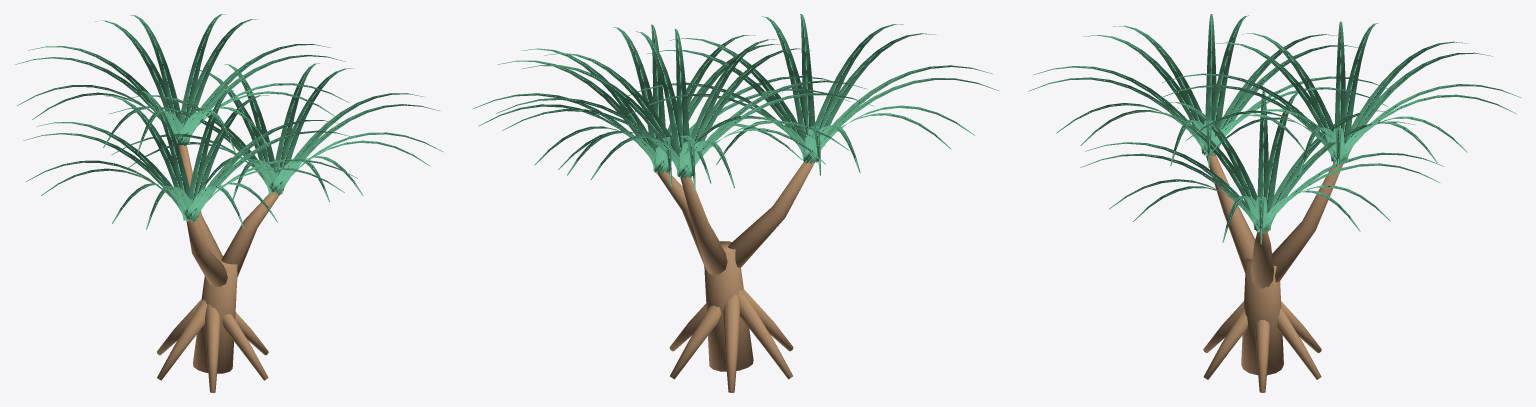
Rendered from pandanus.glb.
The picture shows the model from 3 angles, left to right: view 1: azimuth 30°, elevation 25°; view 2: azimuth 150°, elevation 25°; view 3: azimuth 270°, elevation 25°; orthographic projection. The views are drawn at different scales.
Visible parts, largest first — view 1: pandanus; view 2: pandanus; view 3: pandanus.
Part boxes in pixels (x1,y1,x2,y2): pandanus: (14, 14, 443, 392); pandanus: (472, 14, 999, 392); pandanus: (1028, 14, 1521, 392).
Bounding box in the file's own units: 4.19 × 2.63 × 4.15.
